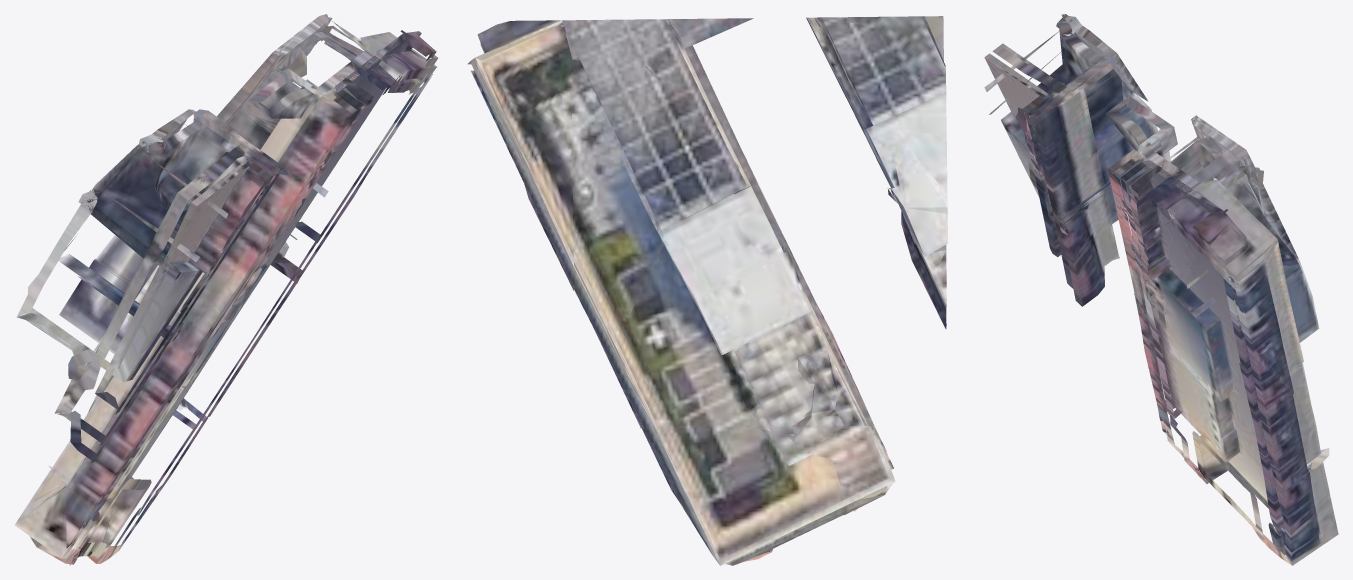
3 views of the same model, side by side, from view 1: azimuth 30°, elevation 25°; view 2: azimuth 150°, elevation 25°; view 3: azimuth 270°, elevation 25° (orthographic). The views are drawn at different scales.
Bounding box in the file's own units: 47.39 × 50.32 × 31.92.
2 materials, 2 textured.
